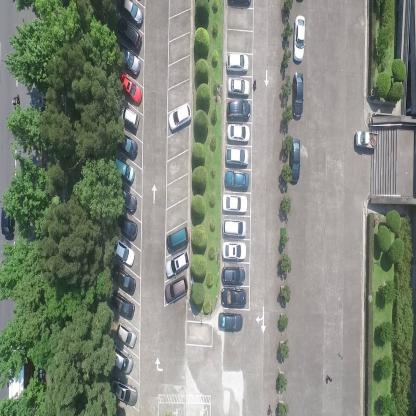car: (117, 17, 142, 53), (110, 378, 138, 407), (164, 248, 190, 278), (112, 262, 136, 294), (118, 72, 142, 104), (118, 43, 140, 77), (291, 15, 306, 64), (165, 275, 189, 305), (111, 289, 135, 319), (112, 237, 136, 266), (168, 101, 191, 130), (165, 227, 189, 254), (113, 344, 133, 376), (118, 102, 139, 131), (116, 319, 136, 349), (117, 132, 137, 162), (121, 0, 145, 25), (114, 158, 136, 185), (220, 288, 247, 309), (117, 214, 138, 241), (288, 137, 300, 183), (355, 129, 378, 152), (292, 70, 303, 118), (221, 264, 245, 286), (119, 187, 137, 216), (224, 146, 250, 166), (218, 312, 244, 332), (226, 100, 251, 120), (222, 242, 248, 261), (226, 53, 250, 73), (224, 171, 249, 190), (222, 194, 248, 212), (2, 200, 14, 239), (227, 76, 250, 96), (222, 219, 247, 237), (227, 124, 251, 142)
